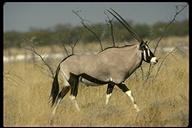antelope: (47, 7, 160, 117)
grass: (6, 60, 47, 122)
sky: (5, 4, 185, 20)
